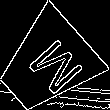M_SW: (13, 31, 80, 99)
